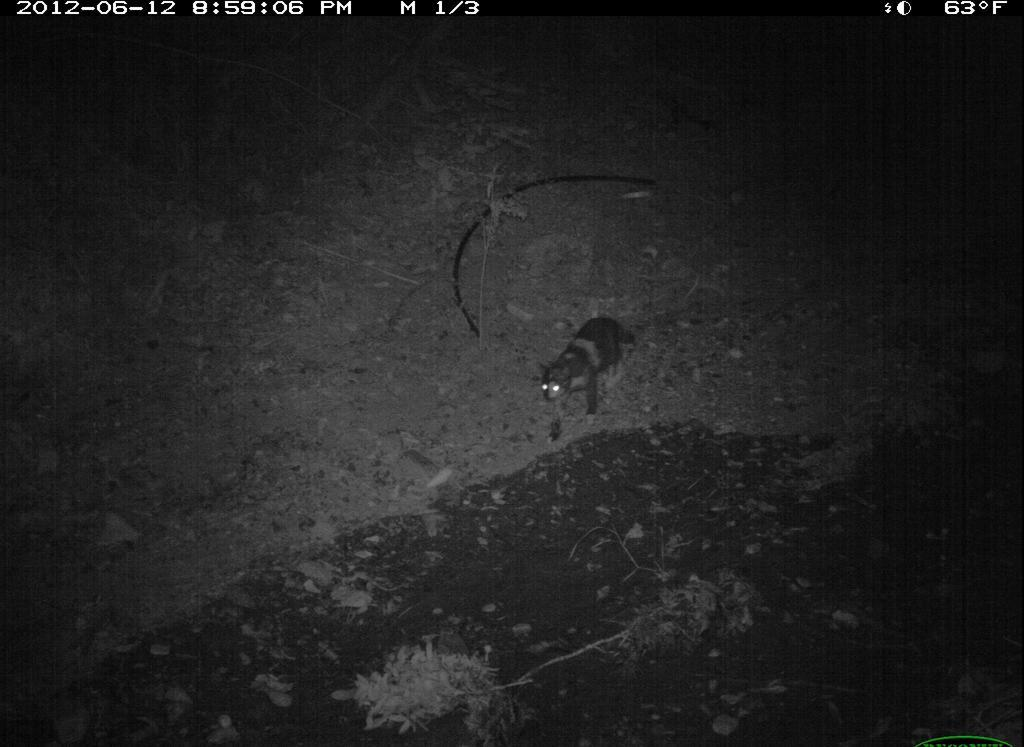cat: (525, 297, 647, 446)
